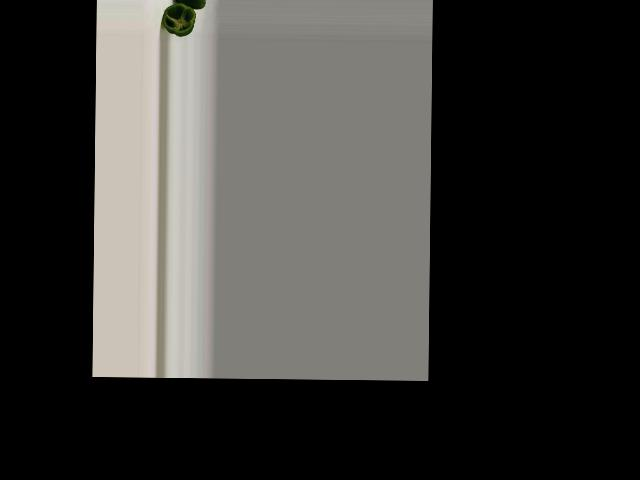bell_pepper: (159, 1, 199, 38)
